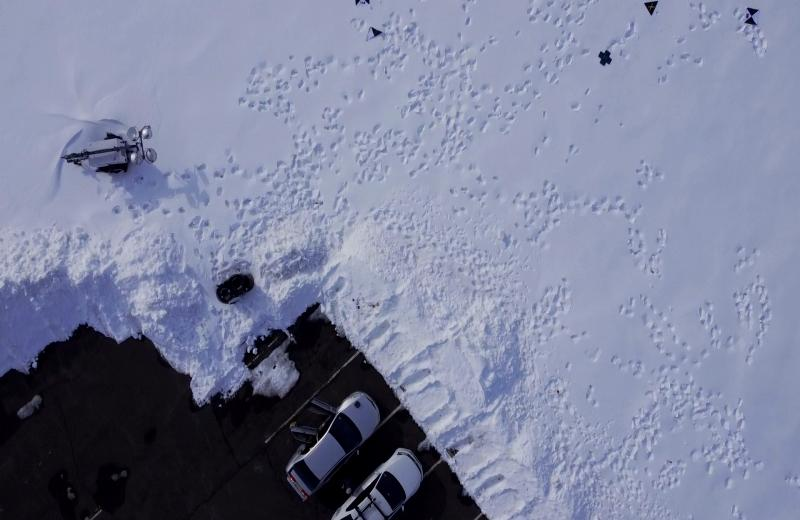Cross: (595, 47, 613, 66)
Triangle: (643, 0, 660, 16)
